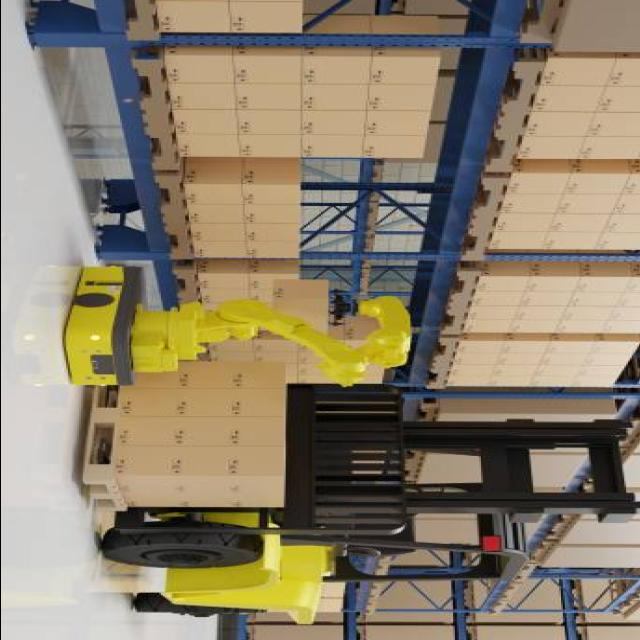Robotic-arm: (58, 258, 416, 392)
